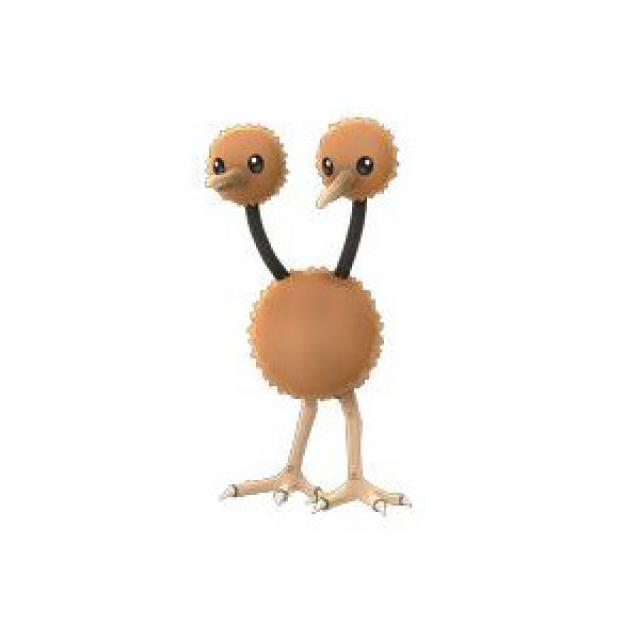Doduo: (187, 115, 400, 511)
